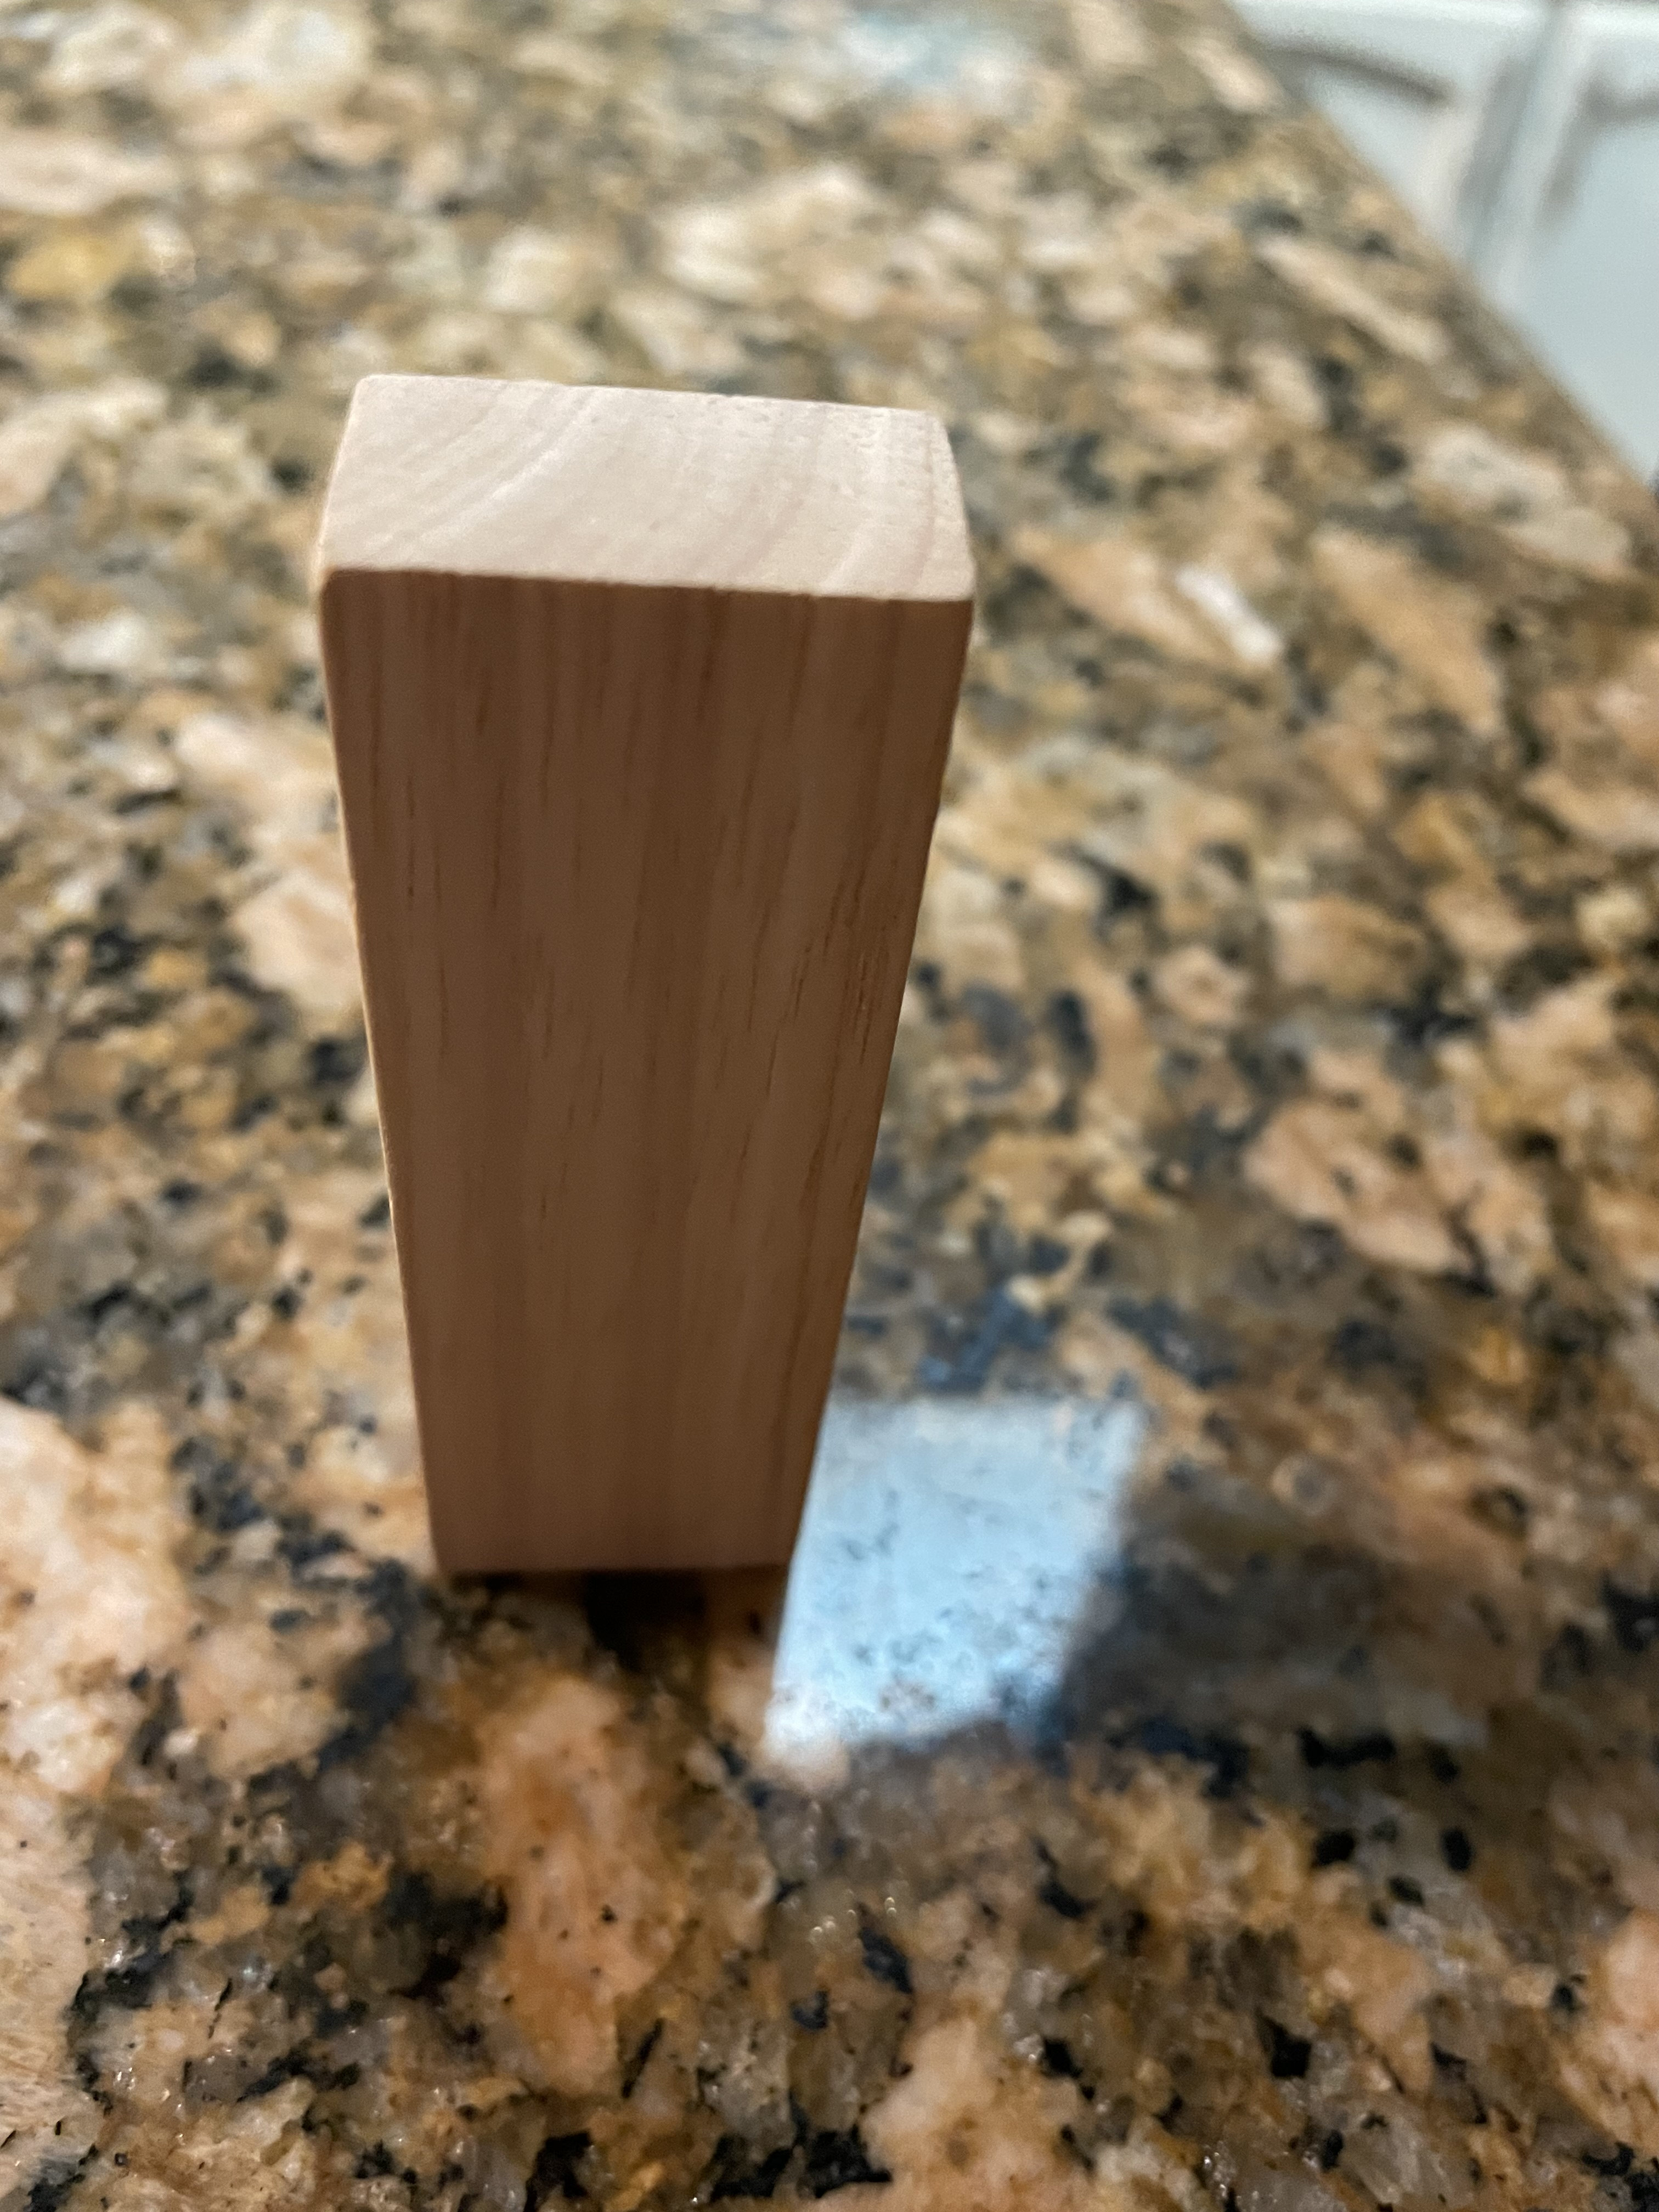jenga: (322, 362, 955, 1578)
